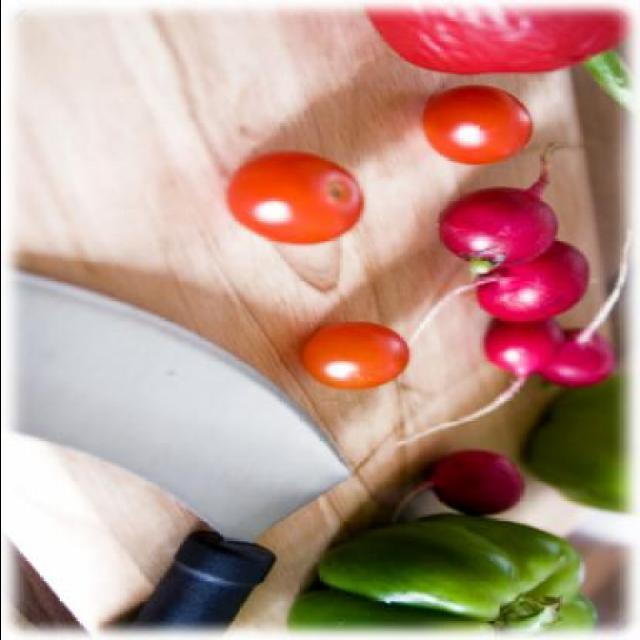Bell pepper: (286, 512, 598, 634), (518, 374, 632, 512)
